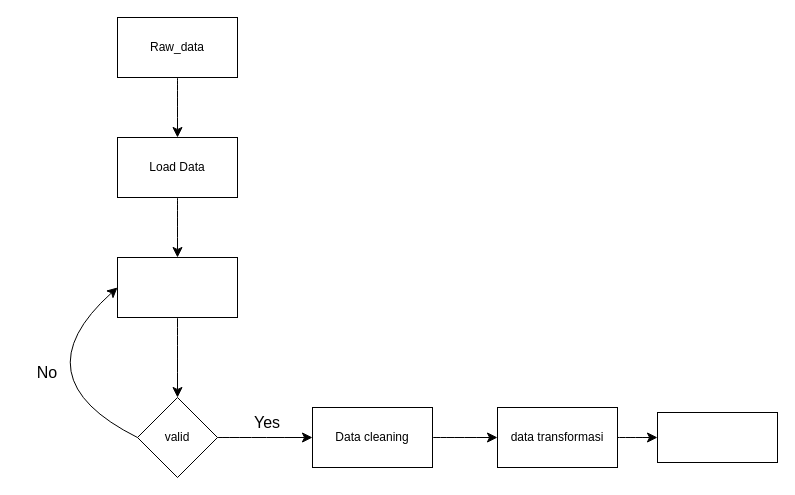
This 795x495 diagram has some shape labels left out. The box of each missing label's shape, as (x1, y1, x2, y2) in pixels:
analisis numerical ataua categorical: (116, 256, 238, 318)
New dataset: (656, 412, 778, 462)
